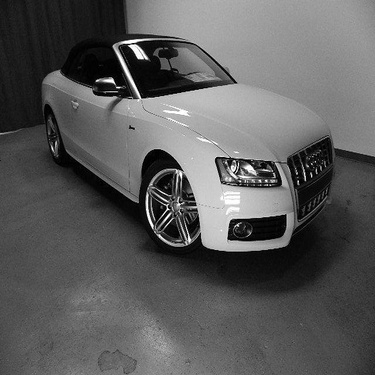car: (39, 32, 336, 253)
